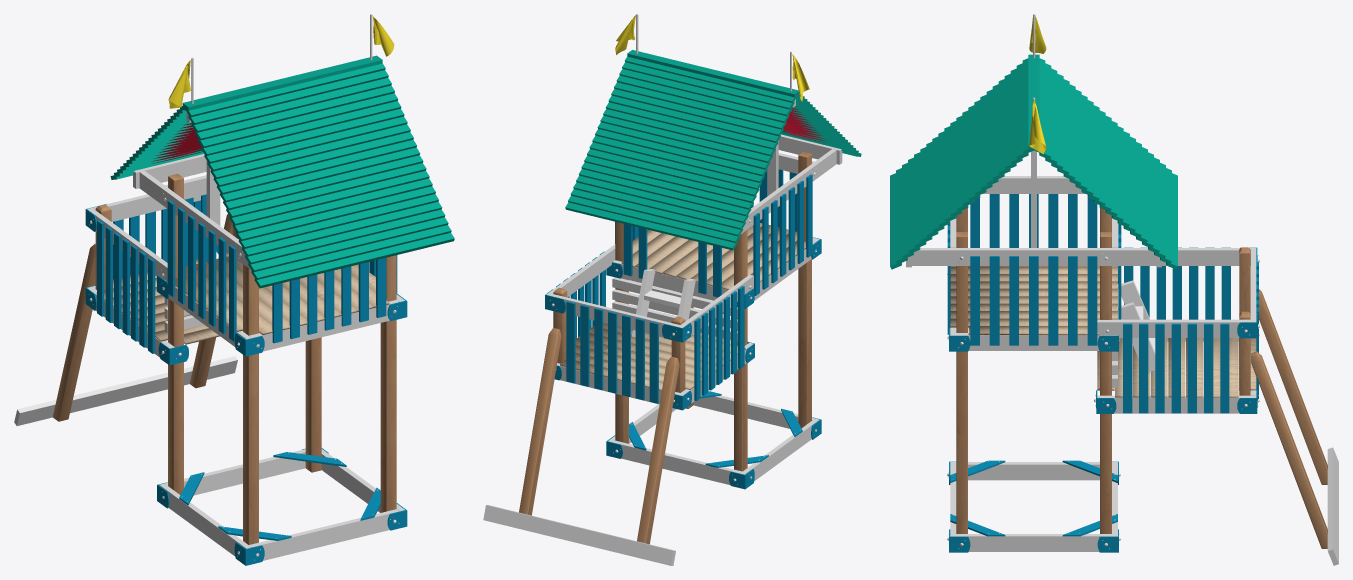
Rendered from P-DSMT.b588ca83.glb.
The picture shows the model from 3 angles, left to right: view 1: azimuth 30°, elevation 25°; view 2: azimuth 150°, elevation 25°; view 3: azimuth 270°, elevation 25°; orthographic projection. The views are drawn at different scales.
Visible parts, largest first — view 1: roof_poly_back,#004983,#01664b,#ffcb05,#93293b, Cube603, Cube603_3, Plane091, Cube603_1, Plane091_3, Deluxe_corners001,_colorize_, Cube110, Deluxe_Joint001,_colorize_, Plane091_1, Summit_corner001,_colorize_, roof_canopy,#004983,#01664b,#ffcb05,#93293b,tricolors (+22 smaller); view 2: roof_poly_back,#004983,#01664b,#ffcb05,#93293b, Cube603, Plane091, Plane091_3, Cube603_3, Cube603_1, Plane091_1, Cube110, Deluxe_corners001,_colorize_, Summit_corner001,_colorize_, Cube195, Deluxe_Joint001,_colorize_ (+23 smaller); view 3: roof_poly_back,#004983,#01664b,#ffcb05,#93293b, Cube603, Plane091_3, Cube603_3, Plane091, Cube603_1, Plane091_1, Deluxe_corners001,_colorize_, Deluxe_Joint001,_colorize_, Cube195, Summit_corner001,_colorize_, fence,_colorize__31 (+16 smaller).
Part boxes in pixels (x1,y1,x2,y2): roof_poly_back,#004983,#01664b,#ffcb05,#93293b: (110,63,454,288); Cube603: (133,14,404,560); Cube603_3: (168,173,396,544); Plane091: (14,194,237,425); Cube603_1: (175,256,389,334); Plane091_3: (53,204,238,421); Deluxe_corners001,_colorize_: (157,275,407,565); Cube110: (182,55,382,110); Deluxe_Joint001,_colorize_: (179,452,380,540); Plane091_1: (96,252,242,344); Summit_corner001,_colorize_: (85,204,188,365); roof_canopy,#004983,#01664b,#ffcb05,#93293b,tricolors: (151,121,202,163); roof_poly_back,#004983,#01664b,#ffcb05,#93293b: (565,56,861,250); Cube603: (608,14,842,485); Plane091: (483,244,753,565); Plane091_3: (519,287,685,544); Cube603_3: (615,151,811,471); Cube603_1: (621,223,805,289); Plane091_1: (560,323,745,390); Cube110: (627,50,798,97); Deluxe_corners001,_colorize_: (606,237,821,489); Summit_corner001,_colorize_: (545,289,754,410); Cube195: (632,269,695,337); Deluxe_Joint001,_colorize_: (629,391,802,467); roof_poly_back,#004983,#01664b,#ffcb05,#93293b: (890,58,1177,269); Cube603: (906,14,1161,551); Plane091_3: (1239,247,1327,548); Cube603_3: (956,208,1111,533); Plane091: (1097,248,1338,565); Cube603_1: (950,266,1117,335); Plane091_1: (1097,338,1256,397); Deluxe_corners001,_colorize_: (949,266,1118,552); Deluxe_Joint001,_colorize_: (950,460,1117,536); Cube195: (1117,280,1155,372); Summit_corner001,_colorize_: (1096,247,1257,413); fence,_colorize__31: (989,256,999,345).
Bounding box in the file's own units: 2.2 × 4.46 × 3.96.
47 materials, 5 textured.
